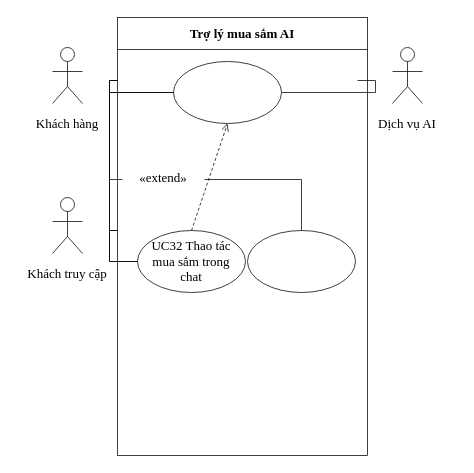
Some shapes in this 474 by 473 pixel diagram are drawn without their labels. Each missing label, with the box of its shape:
UC31 Tư vấn sản phẩm và cỡ: (173, 61, 281, 123)
UC33 Lịch sử trò chuyện: (247, 230, 355, 292)
